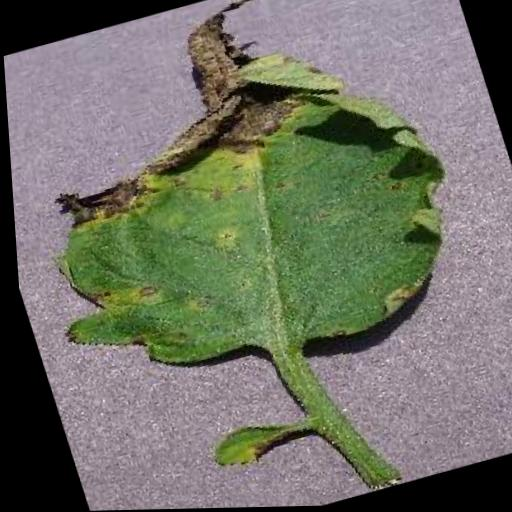Septoria: (0, 0, 487, 410)
